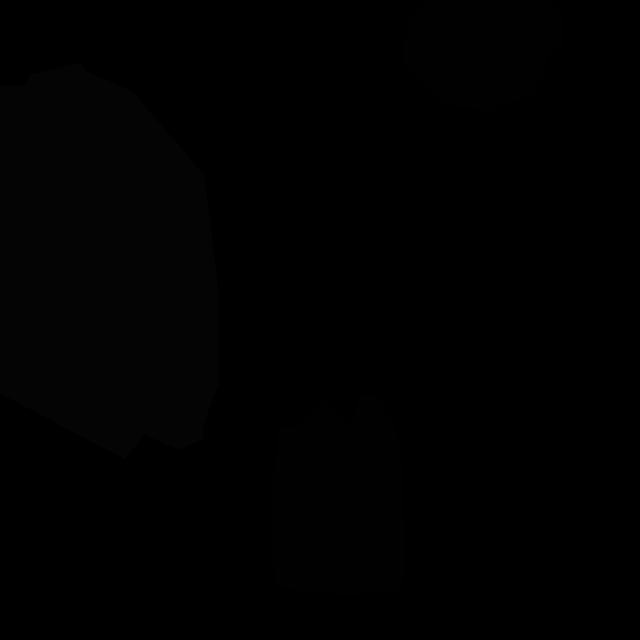rigid_plastic: (272, 394, 405, 596), (402, 0, 564, 112)
soft_plastic: (0, 63, 218, 459)
